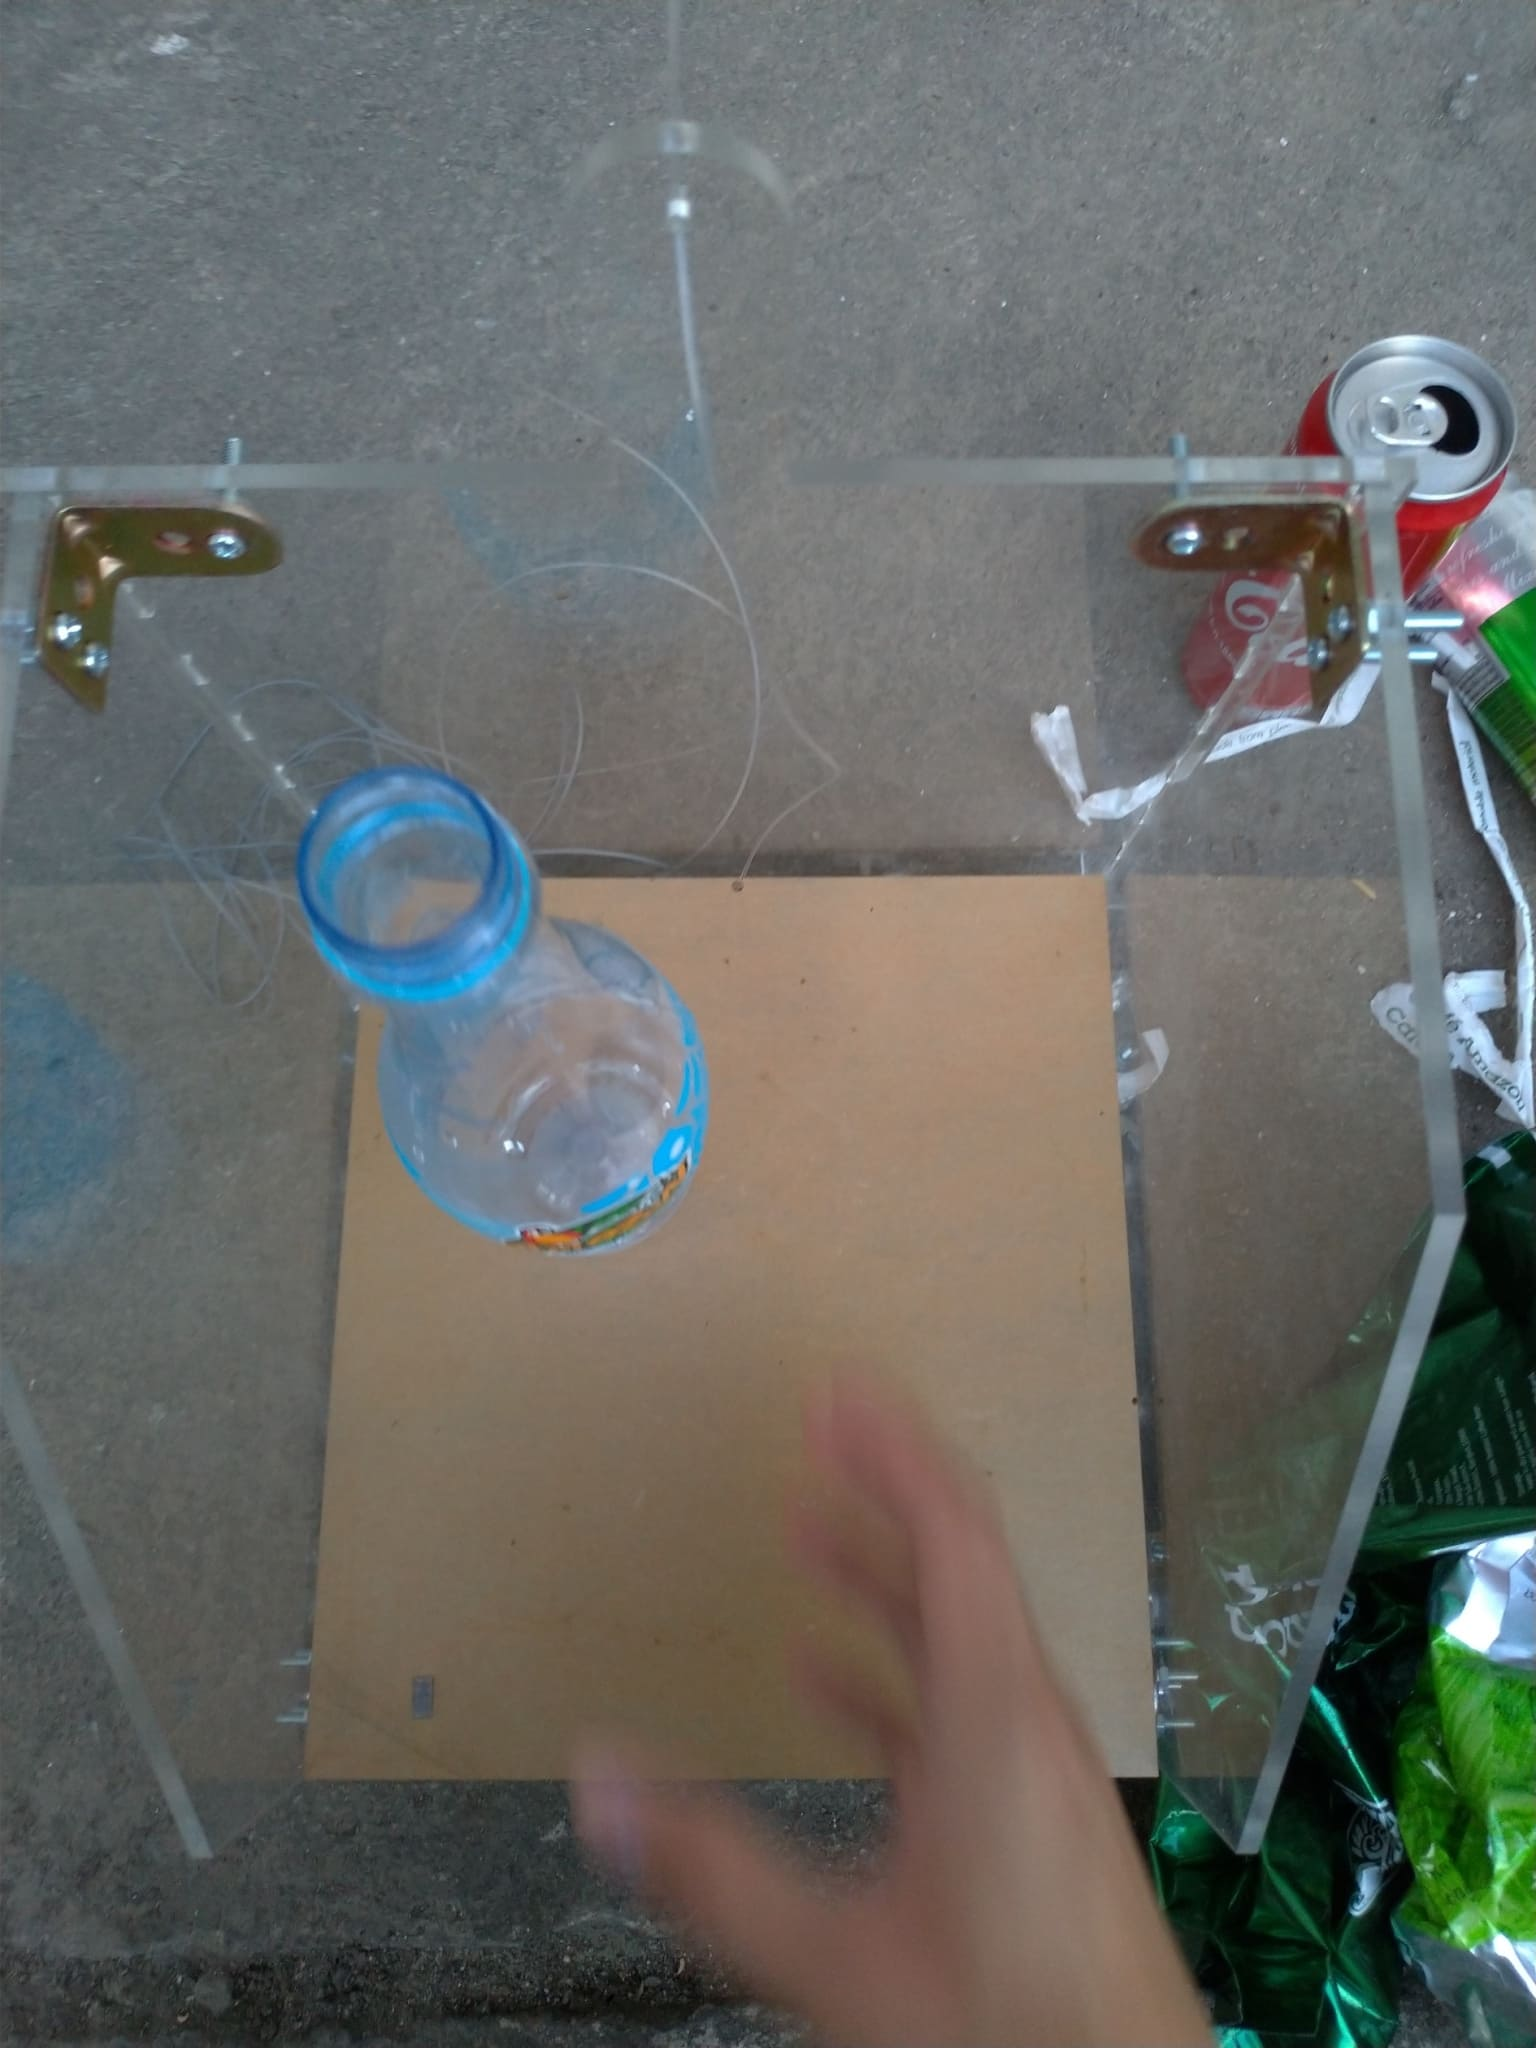AlCan: (1175, 335, 1512, 729), (1412, 490, 1536, 772)
Others: (1158, 1145, 1536, 2033), (1388, 1542, 1536, 2033), (1379, 700, 1536, 1121), (1020, 642, 1379, 813)
PlasticBottle: (290, 764, 707, 1255)
